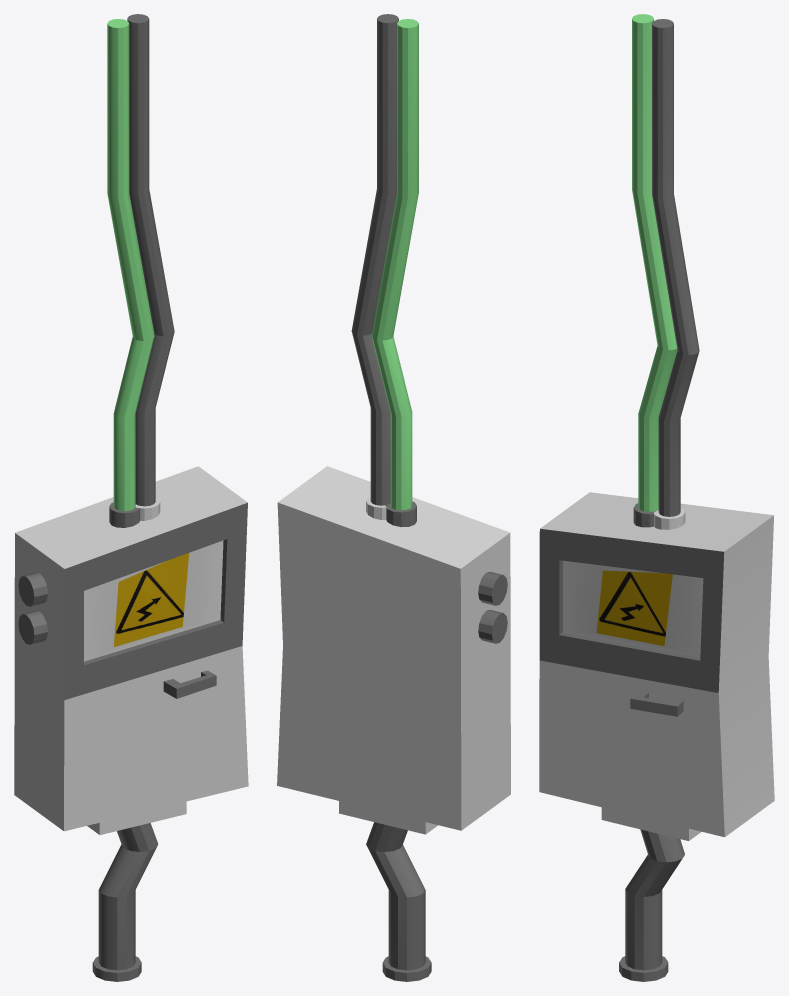
Rendered from Electric.fbx.
3 renders of one model, left to right at view 1: azimuth 30°, elevation 25°; view 2: azimuth 150°, elevation 25°; view 3: azimuth 330°, elevation 25°, orthographic.
Visible parts, largest first — view 1: Cube.012; view 2: Cube.012; view 3: Cube.012.
Boxes of the visible parts, bbox=[...] form: Cube.012: bbox=[14, 14, 248, 981]; Cube.012: bbox=[277, 14, 510, 981]; Cube.012: bbox=[539, 14, 774, 981].
Size of the model in its own units: 225 by 1031 by 120.
4 materials, 1 textured.
